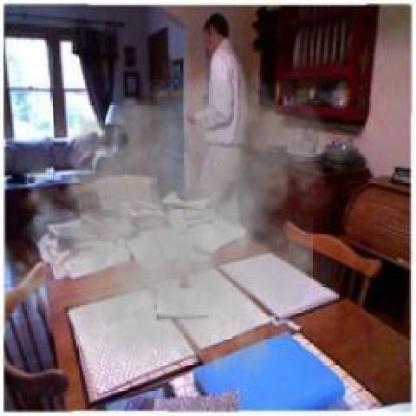Smoke: (2, 56, 336, 402)
